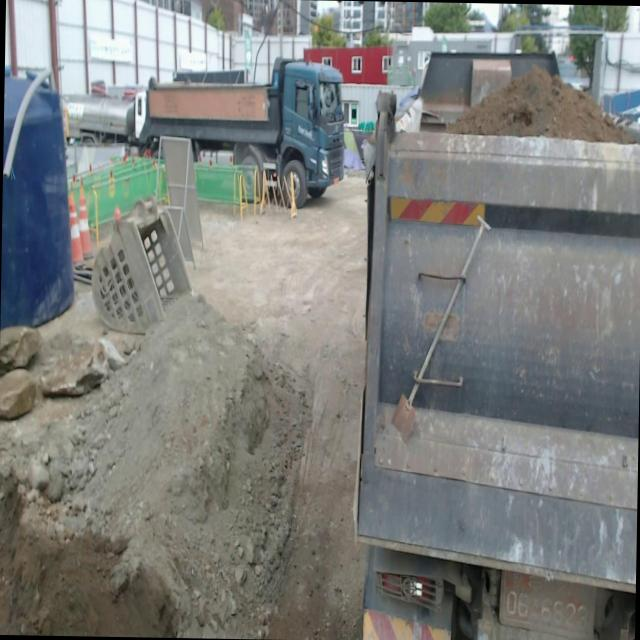red-sand: (444, 66, 631, 142)
stone: (38, 340, 108, 397), (0, 327, 41, 374), (0, 369, 37, 419)
white-sand: (0, 177, 365, 640)
